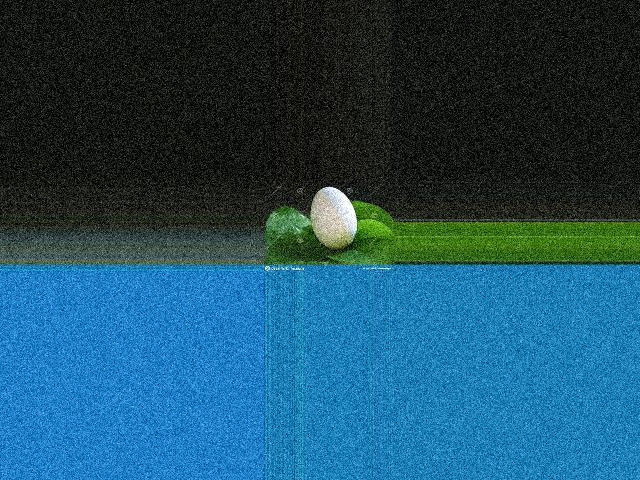egg: (310, 187, 357, 249)
